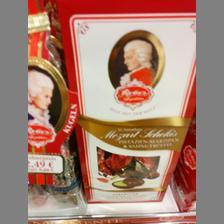Schokolade: (56, 0, 196, 202)
